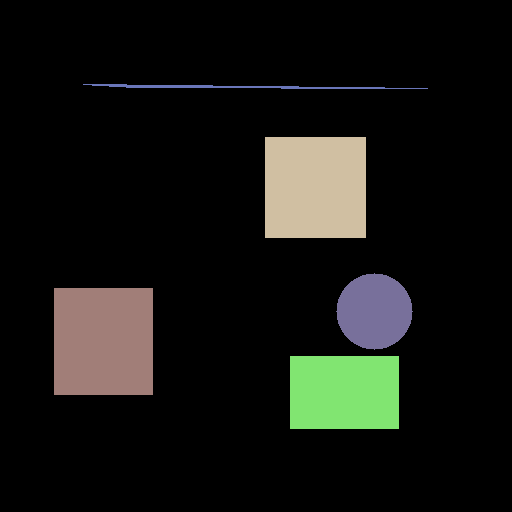circle: (336, 273, 412, 349)
rectangle: (290, 356, 398, 428)
square: (54, 288, 152, 394), (265, 137, 365, 237)
